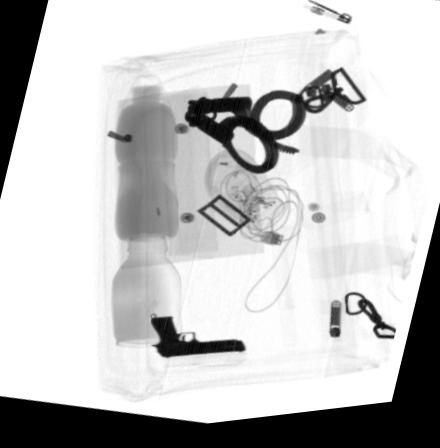Gun: (147, 321, 245, 363)
HandCuffs: (179, 98, 308, 180)
